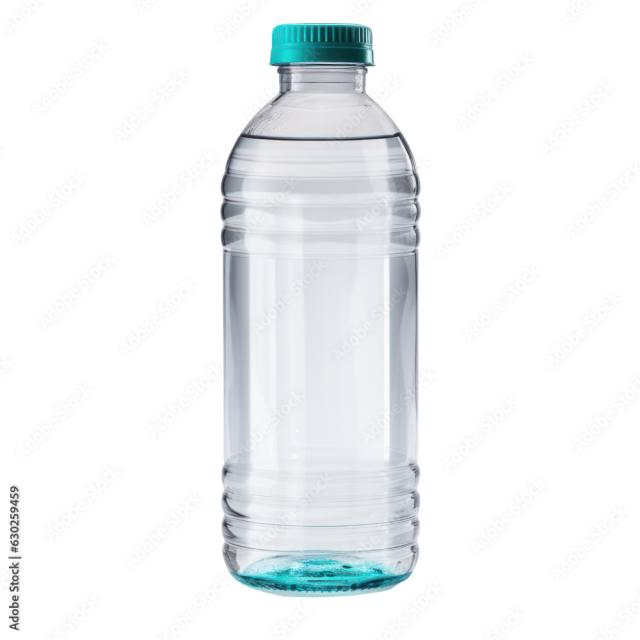bottle: (217, 16, 420, 601)
